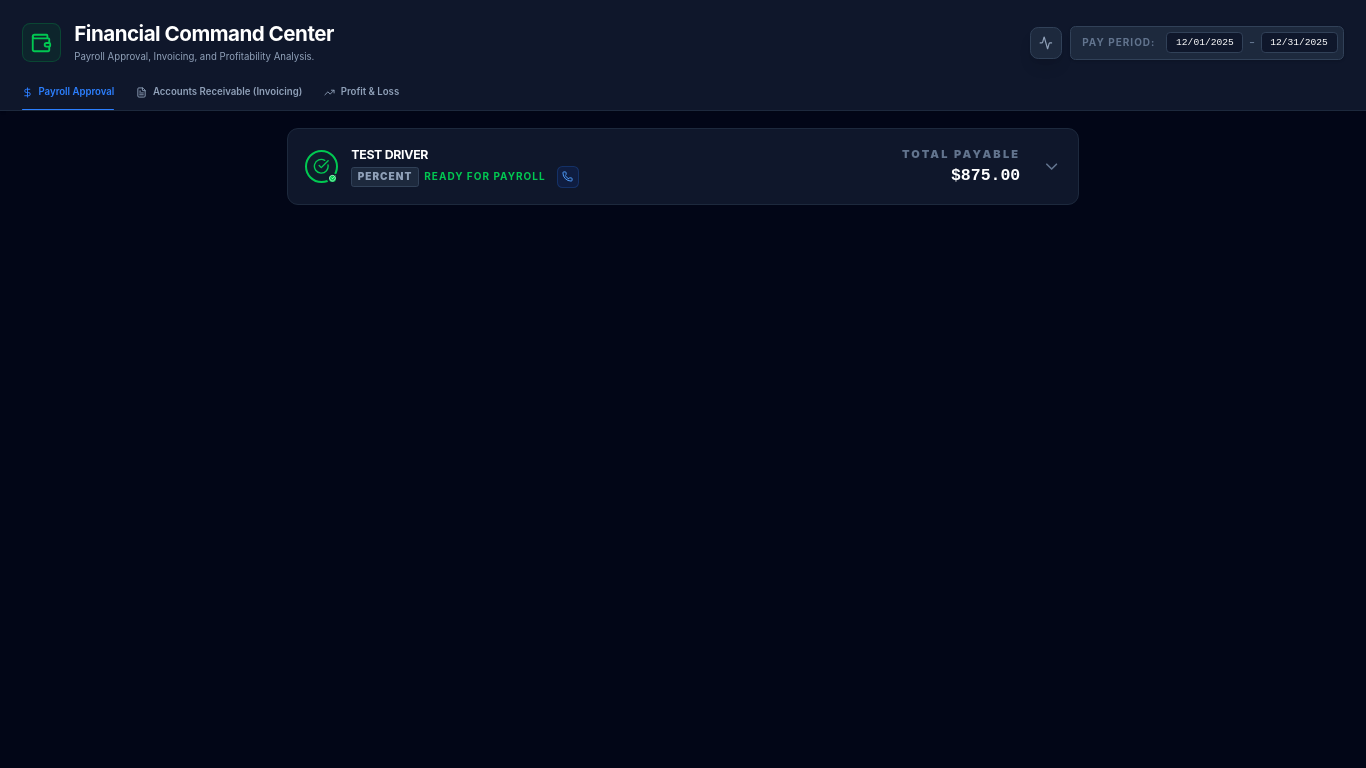
Test: Settlements component › collapses expanded card when clicked again
This screenshot has width=1366, height=768.
Click the heading "Test Driver".
click(390, 154)  # box [351, 147, 428, 162]
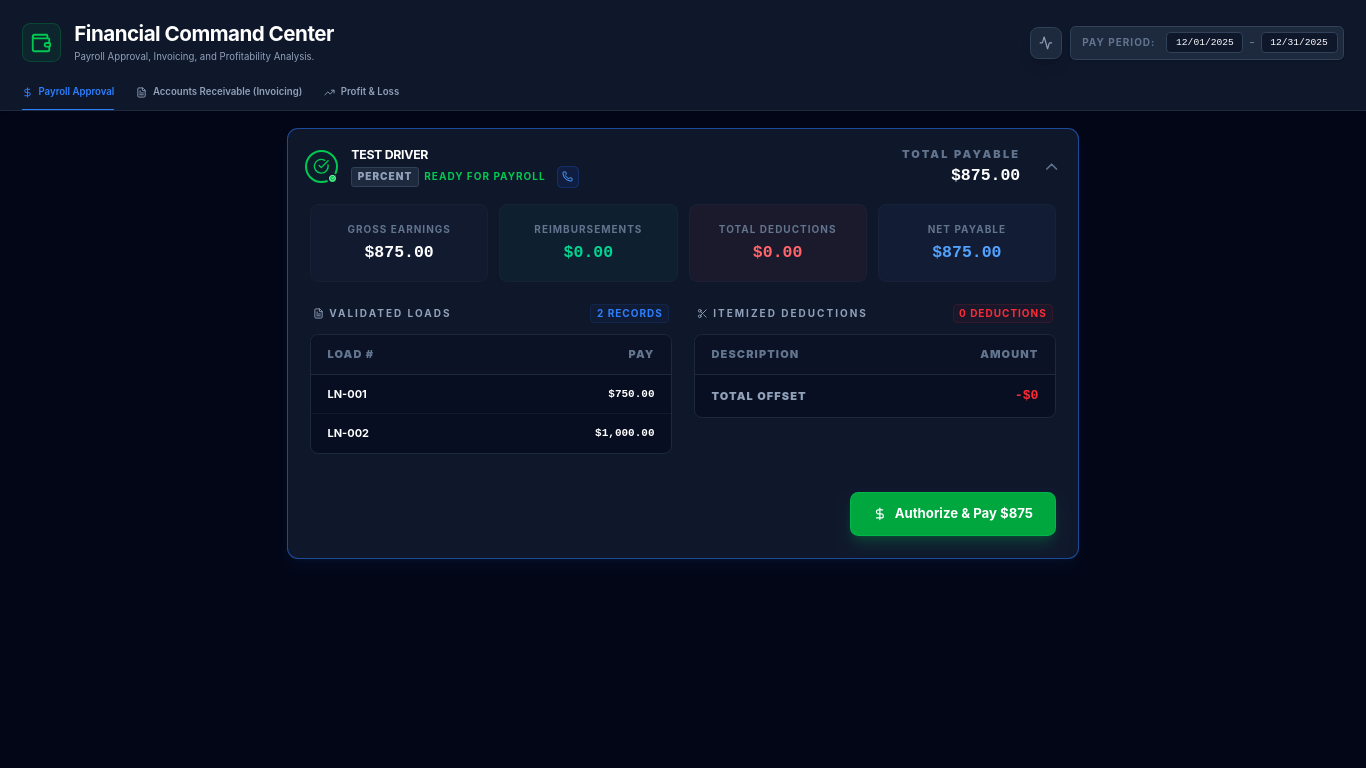
Check: the text "Gross Earnings" is shown, box [347, 222, 451, 237]
Click the heading "Test Driver".
click(390, 154)  # box [351, 147, 428, 162]
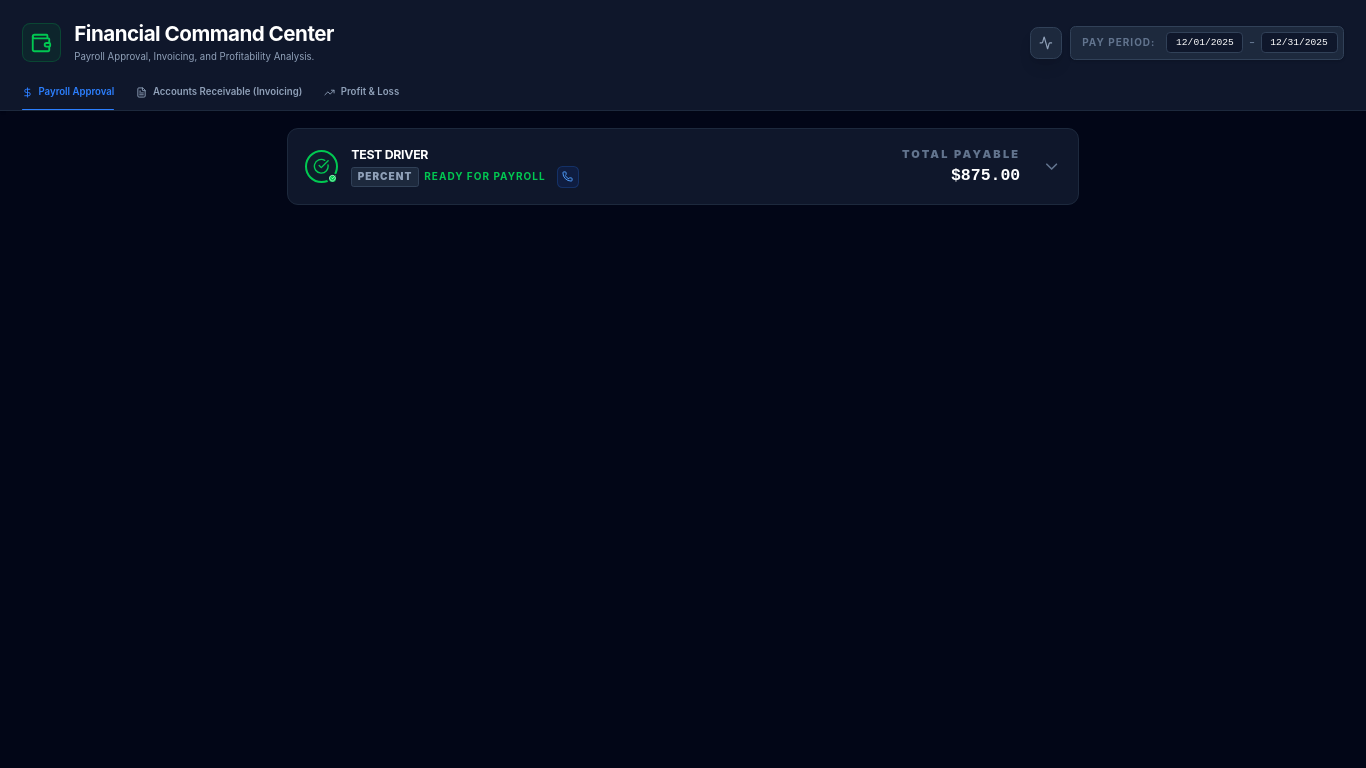
Check: the text "Gross Earnings" is gone
